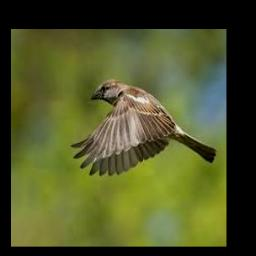Sparrow: (71, 79, 216, 175)
